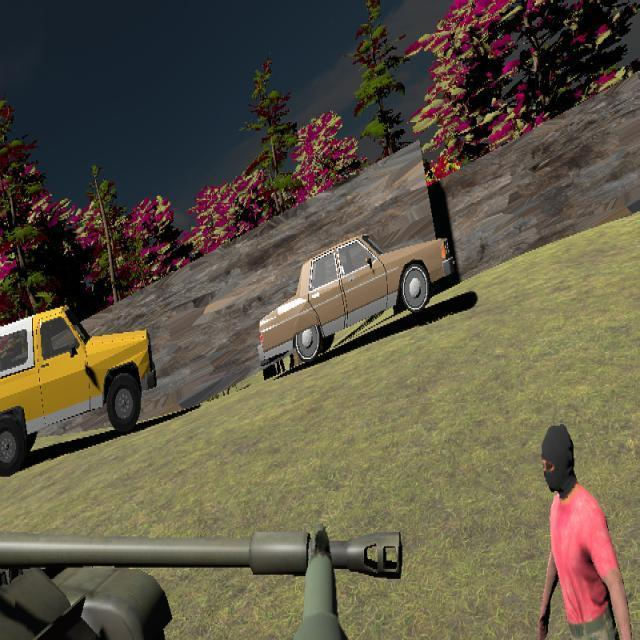Human: (536, 424, 640, 640)
car: (258, 233, 462, 372), (0, 308, 159, 476)
